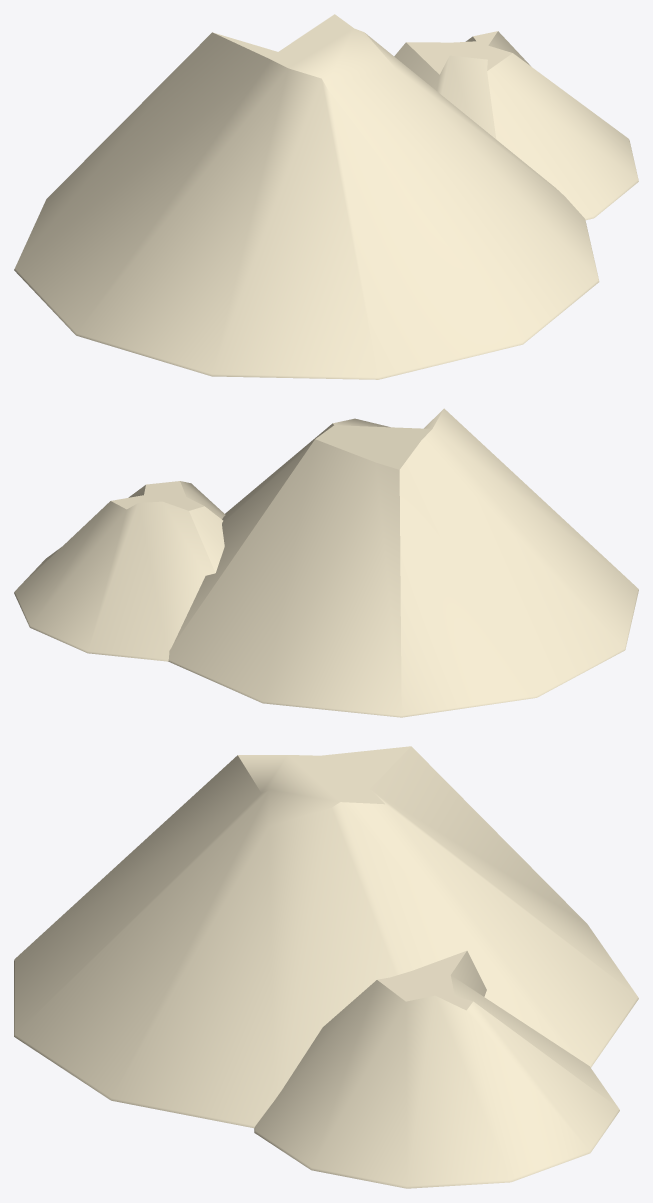
File: SandPile.fbx
The picture shows the model from 3 angles, top to bottom: view 1: azimuth 30°, elevation 25°; view 2: azimuth 150°, elevation 25°; view 3: azimuth 270°, elevation 25°; orthographic projection. The views are drawn at different scales.
Visible parts, largest first — view 1: SandPile; view 2: SandPile; view 3: SandPile.
Boxes of the visible parts, <box> form: SandPile: <box>14,14,638,379</box>; SandPile: <box>14,408,638,717</box>; SandPile: <box>14,746,638,1188</box>.
Size of the model in its own units: 4.05 by 1.35 by 3.31.
